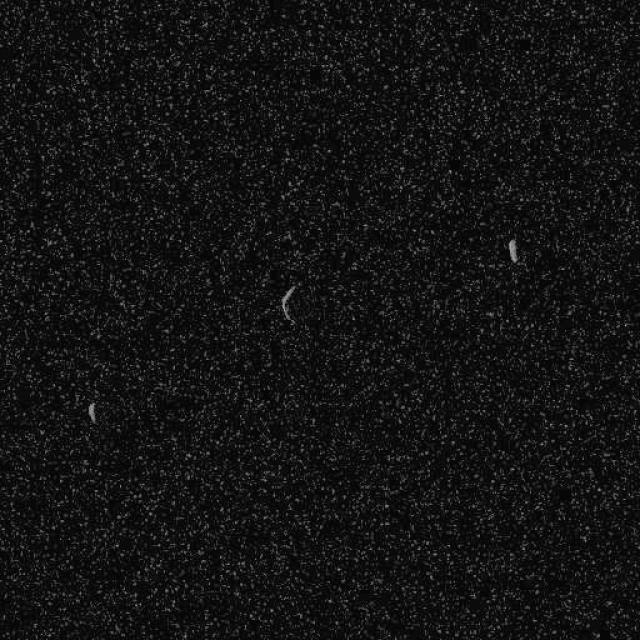D2: (278, 284, 298, 325), (506, 236, 519, 264), (86, 401, 98, 424)
